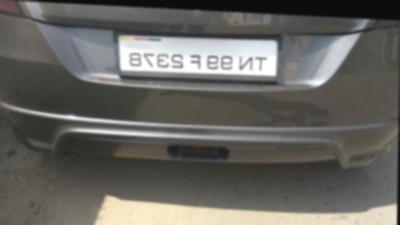License_Plate: (121, 33, 278, 78)
